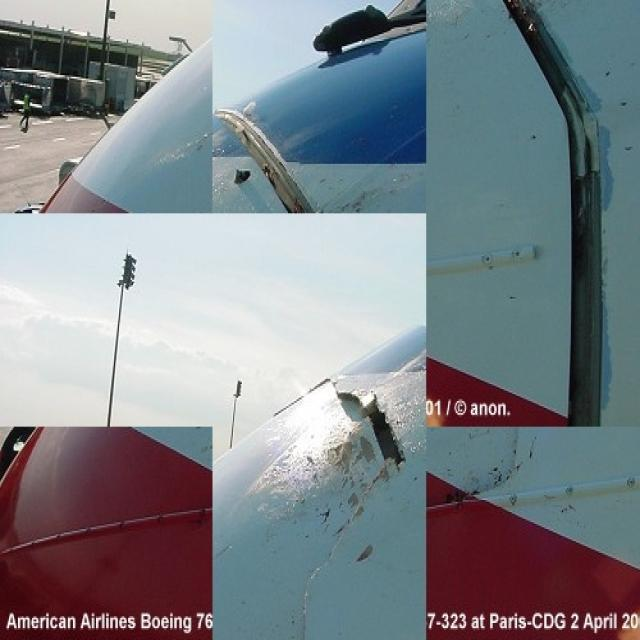crack: (330, 378, 366, 411)
